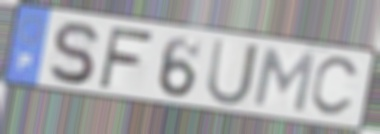6: (157, 34, 203, 99)
C: (307, 55, 363, 120)
F: (96, 24, 157, 90)
M: (250, 45, 318, 116)
S: (47, 19, 100, 86)
U: (204, 36, 262, 109)
